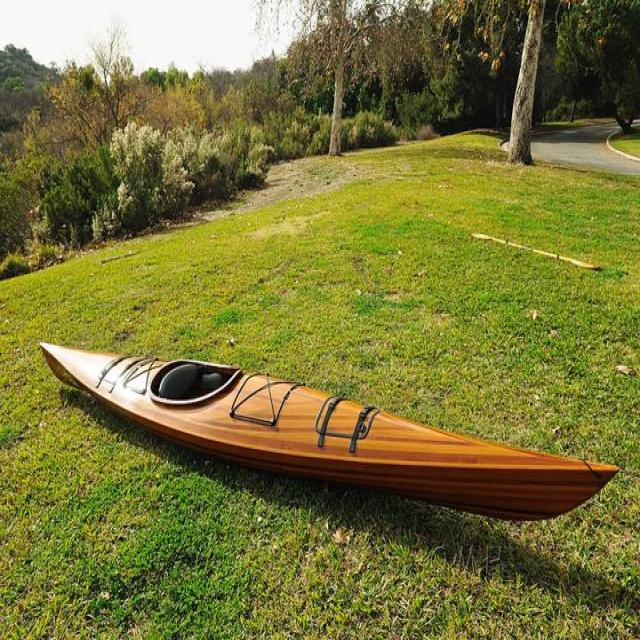Woods: (38, 343, 620, 524)
